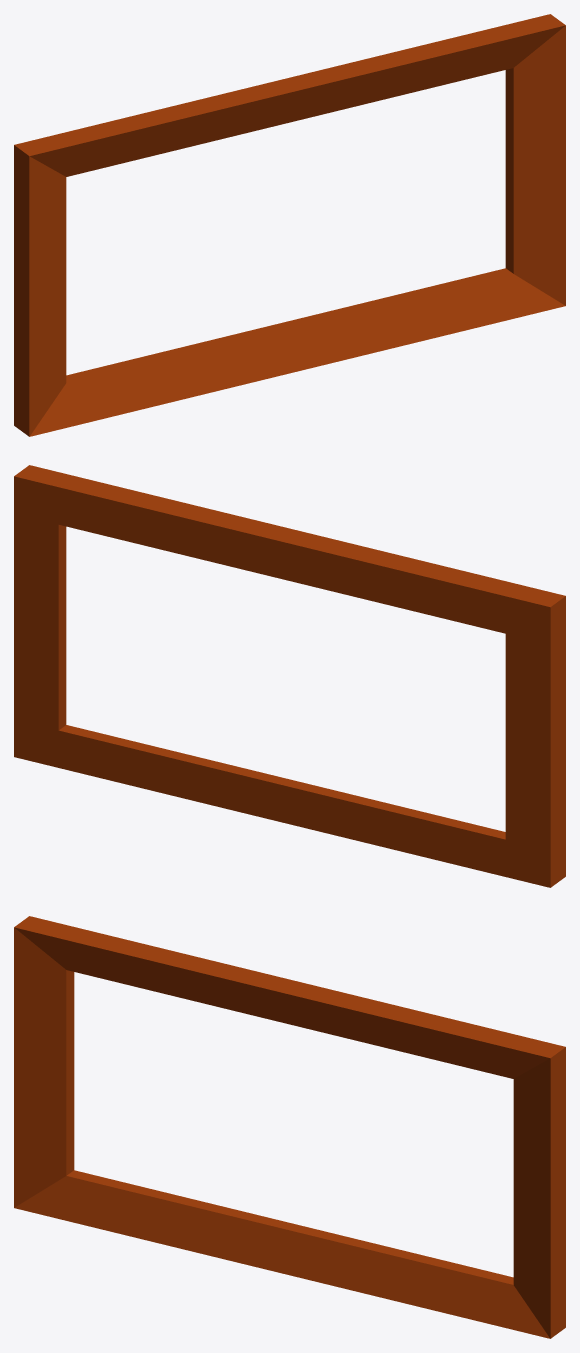
The model's file is Frame.fbx.
3 renders of one model, top to bottom at view 1: azimuth 30°, elevation 25°; view 2: azimuth 150°, elevation 25°; view 3: azimuth 330°, elevation 25°, orthographic.
Visible parts, largest first — view 1: Cube_9; view 2: Cube_9; view 3: Cube_9.
Part boxes in pixels (left/top/right/bottom): Cube_9: left=14, top=14, right=565, bottom=436; Cube_9: left=14, top=465, right=565, bottom=887; Cube_9: left=14, top=916, right=565, bottom=1338.
Size of the model in its own units: 400 by 200 by 20.
